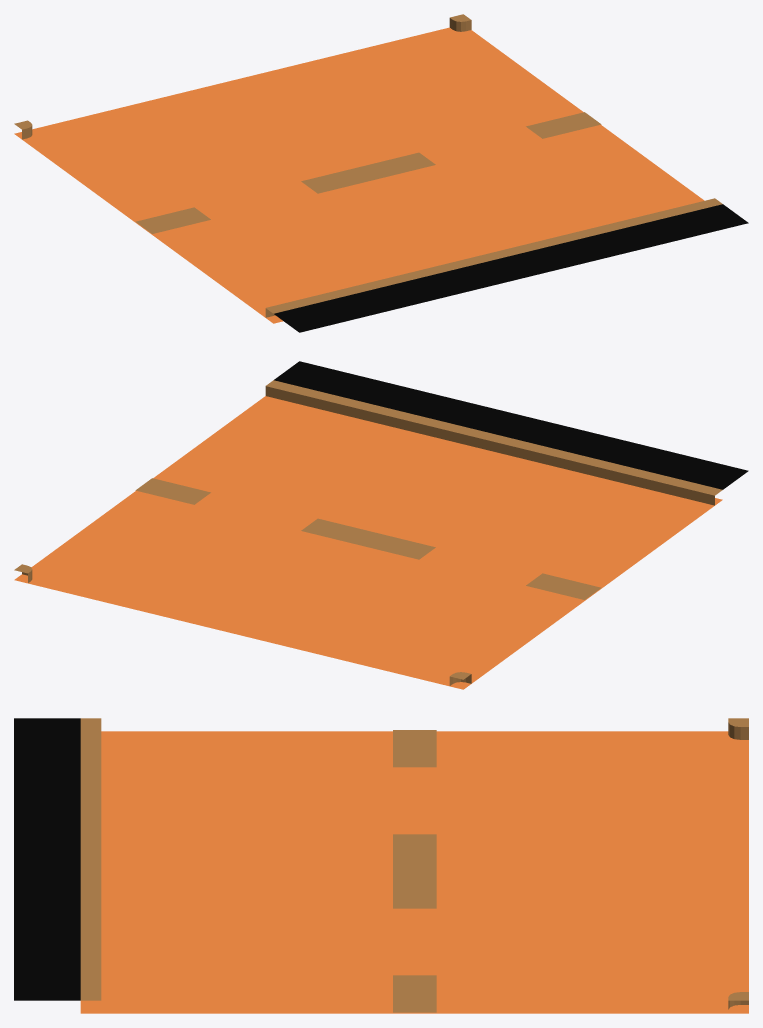
Rendered from Map-Road-T.fbx.
3 views of the same model, one above another, from view 1: azimuth 30°, elevation 25°; view 2: azimuth 150°, elevation 25°; view 3: azimuth 270°, elevation 25° (orthographic). The views are drawn at different scales.
Parts seen in each view (by area): view 1: Map-Road-T; view 2: Map-Road-T; view 3: Map-Road-T.
Part boxes in pixels (x1,y1,x2,y2): Map-Road-T: (14, 14, 748, 332); Map-Road-T: (14, 361, 748, 689); Map-Road-T: (14, 718, 748, 1013).
Bounding box in the file's own units: 2 × 0.0423 × 2.2.
